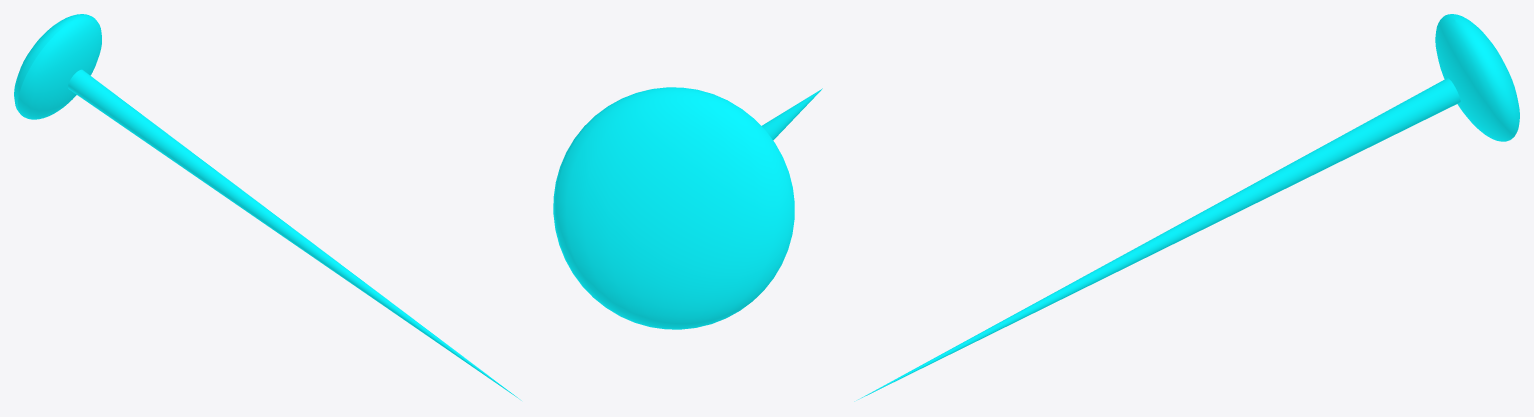
The model's file is pathfinder.glb.
3 views of the same model, side by side, from view 1: azimuth 30°, elevation 25°; view 2: azimuth 150°, elevation 25°; view 3: azimuth 270°, elevation 25° (orthographic). The views are drawn at different scales.
Visible parts, largest first — view 1: sphere6; view 2: sphere6; view 3: sphere6.
Boxes of the visible parts, <box> form: sphere6: <box>14,14,521,400</box>; sphere6: <box>553,87,822,329</box>; sphere6: <box>854,14,1519,401</box>.
Bounding box in the file's own units: 0.000465 × 0.000432 × 0.000949.
